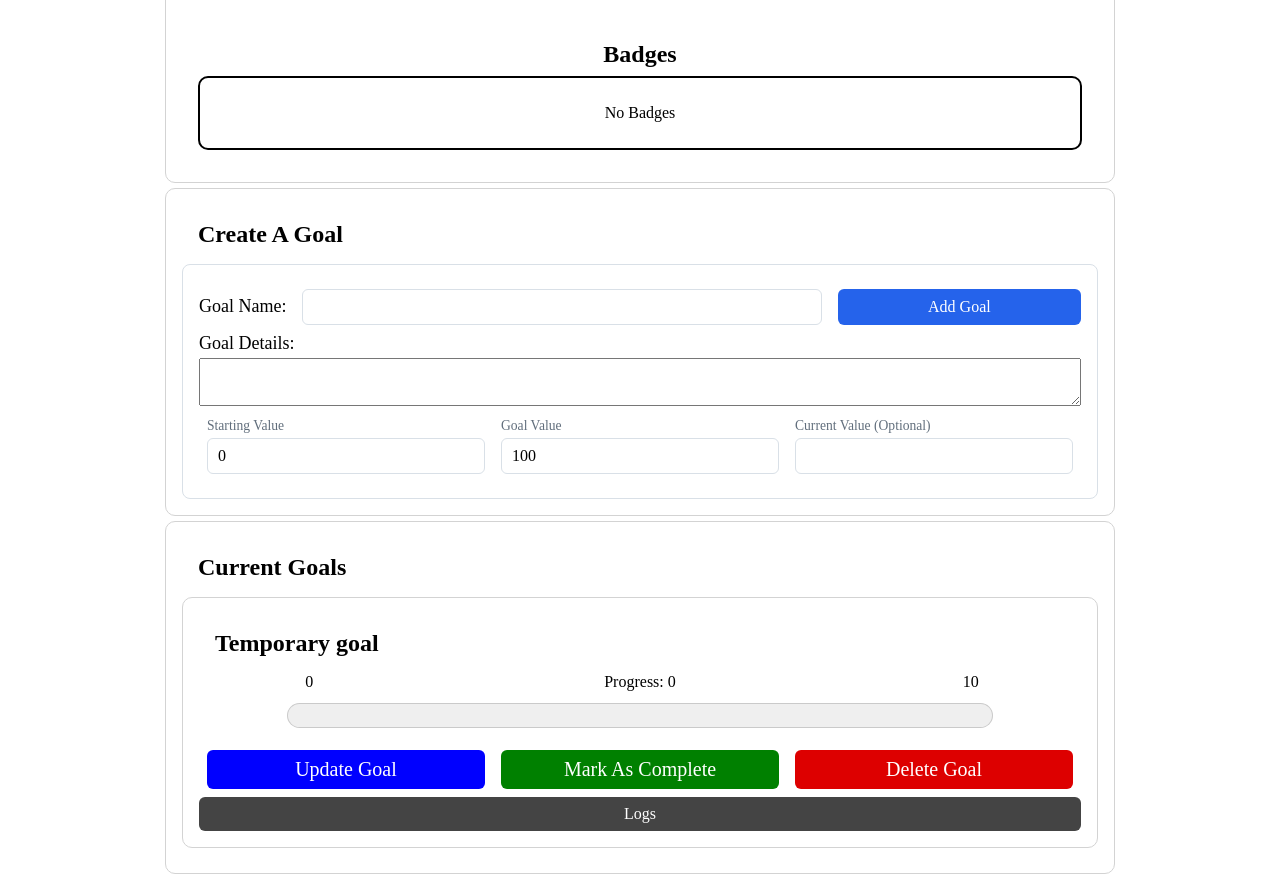
Test case: goal functionality › deletes a goal
(page scrolled)
Click the button "Delete Goal": (934, 769) [795,750,1073,788]
(page scrolled)
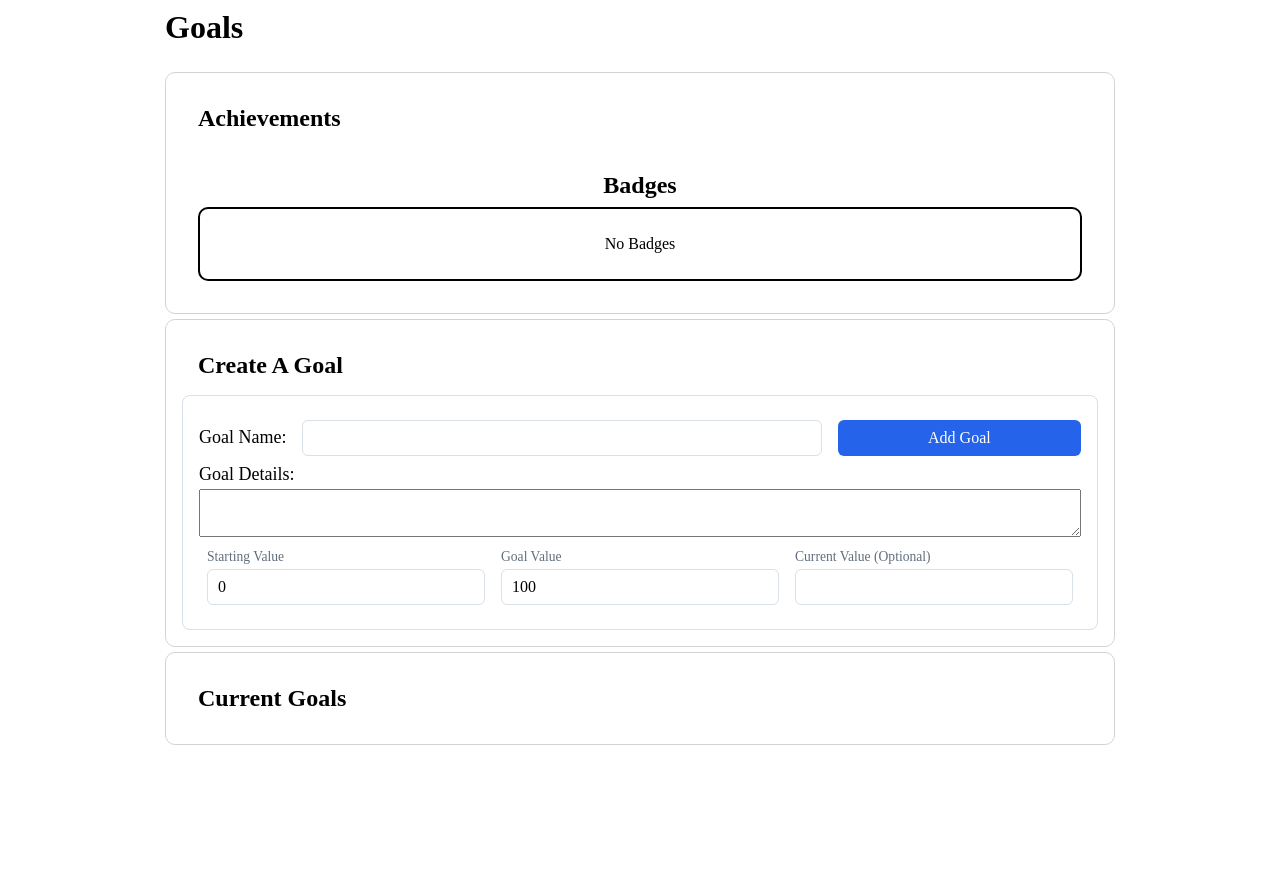
Now the heading "Temporary goal" is gone
